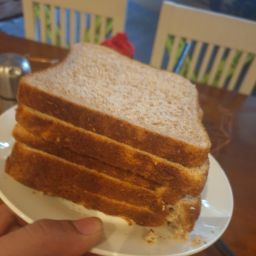Breads: (26, 36, 222, 239), (12, 74, 213, 238)
